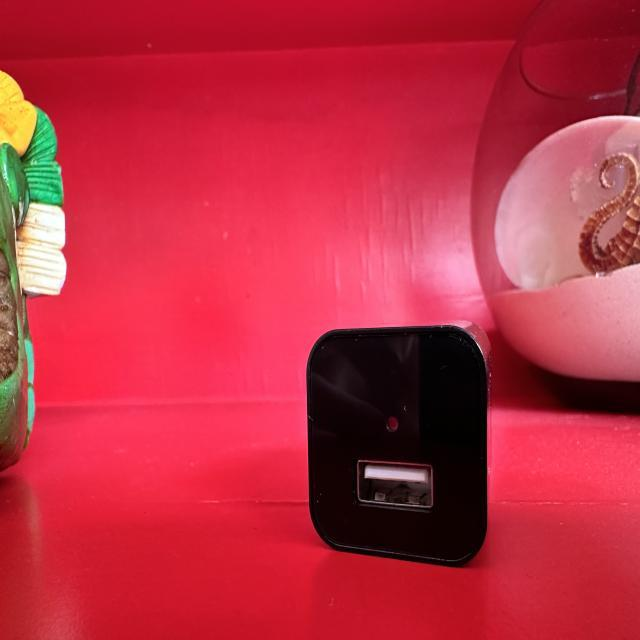hidden camera: (385, 413, 400, 436)
